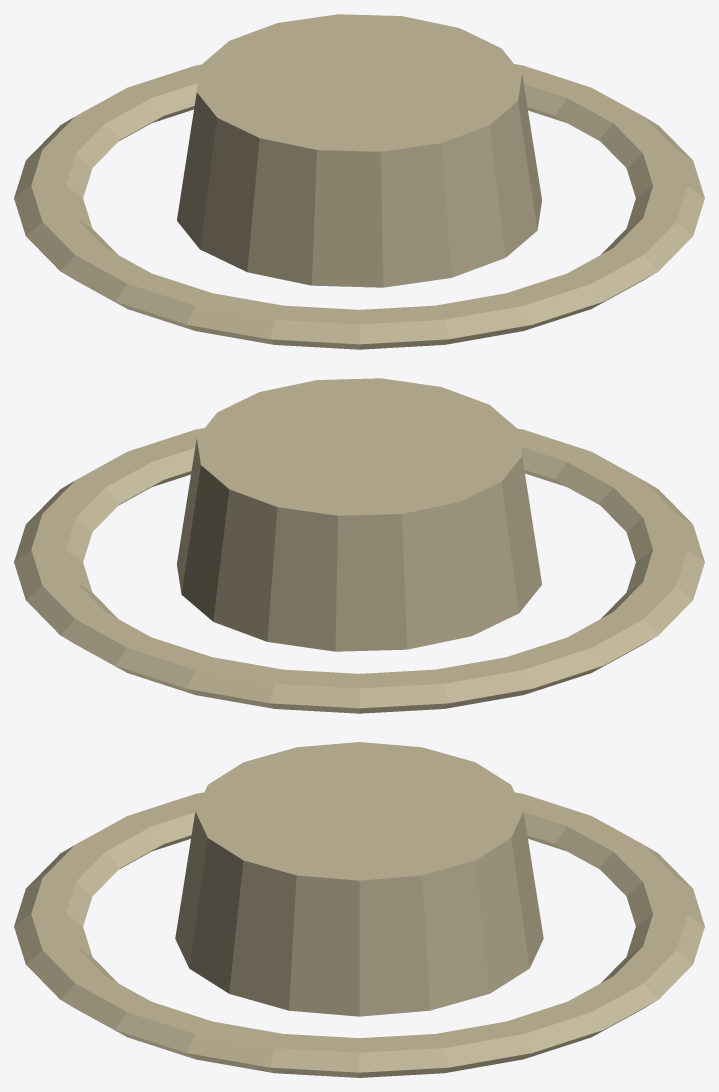
Rendered from StrawHat.fbx.
3 renders of one model, top to bottom at view 1: azimuth 30°, elevation 25°; view 2: azimuth 150°, elevation 25°; view 3: azimuth 270°, elevation 25°, orthographic.
Visible parts, largest first — view 1: StrawHat; view 2: StrawHat; view 3: StrawHat.
Part boxes in pixels (left/top/right/bottom): StrawHat: left=14, top=14, right=704, bottom=349; StrawHat: left=14, top=378, right=704, bottom=713; StrawHat: left=14, top=742, right=704, bottom=1077.
Bounding box in the file's own units: 20.64 × 4.22 × 20.64.
